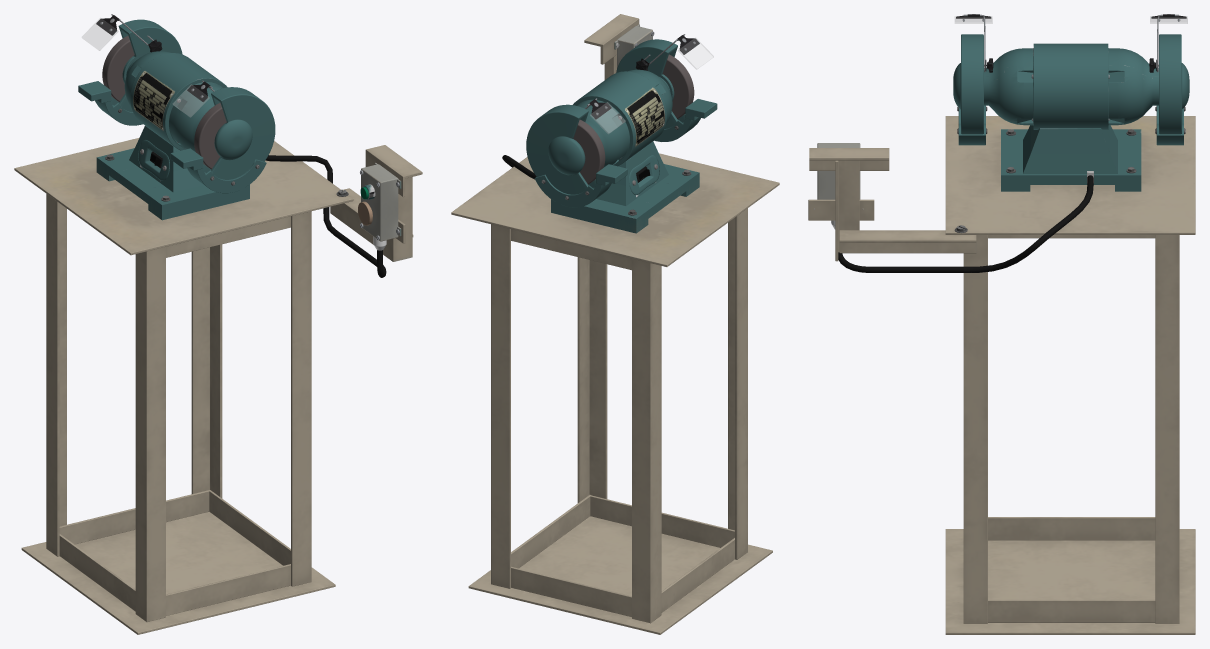
The model's file is Grainder with stand final.fbx.
3 renders of one model, left to right at view 1: azimuth 30°, elevation 25°; view 2: azimuth 150°, elevation 25°; view 3: azimuth 270°, elevation 25°, orthographic. The views are drawn at different scales.
Parts seen in each view (by area): view 1: polySurface14394, Grainder_with_Stand:Glass, Grainder_with_Stand:polySurface14418, Grainder_with_Stand:polySurface14425, polySurface14366, Steel_stand; view 2: polySurface14394, Grainder_with_Stand:polySurface14425, Grainder_with_Stand:Glass, Grainder_with_Stand:polySurface14418, polySurface14366, Steel_stand; view 3: polySurface14394, Steel_stand.
Boxes of the visible parts, x1,y1,x2,y2 form: polySurface14394: [14, 19, 422, 634]; Grainder_with_Stand:Glass: [82, 18, 209, 117]; Grainder_with_Stand:polySurface14418: [194, 103, 226, 169]; Grainder_with_Stand:polySurface14425: [102, 36, 134, 101]; polySurface14366: [138, 140, 169, 180]; Steel_stand: [96, 14, 214, 102]; polySurface14394: [451, 14, 779, 634]; Grainder_with_Stand:polySurface14425: [573, 119, 605, 184]; Grainder_with_Stand:Glass: [590, 38, 713, 133]; Grainder_with_Stand:polySurface14418: [662, 54, 694, 118]; polySurface14366: [629, 155, 659, 195]; Steel_stand: [585, 34, 699, 119]; polySurface14394: [808, 34, 1195, 634]; Steel_stand: [956, 14, 1186, 72].
Size of the model in its own units: 60.18 by 124 by 77.42.
